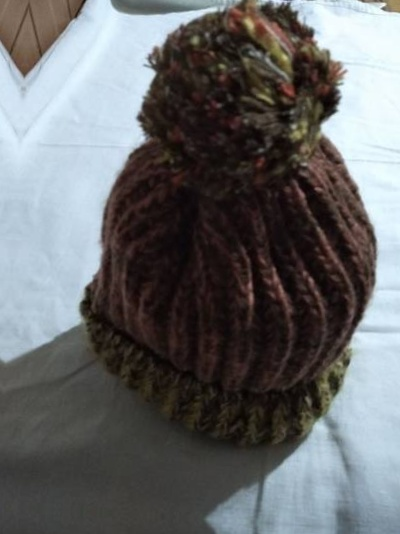Hat: (43, 0, 400, 433)
